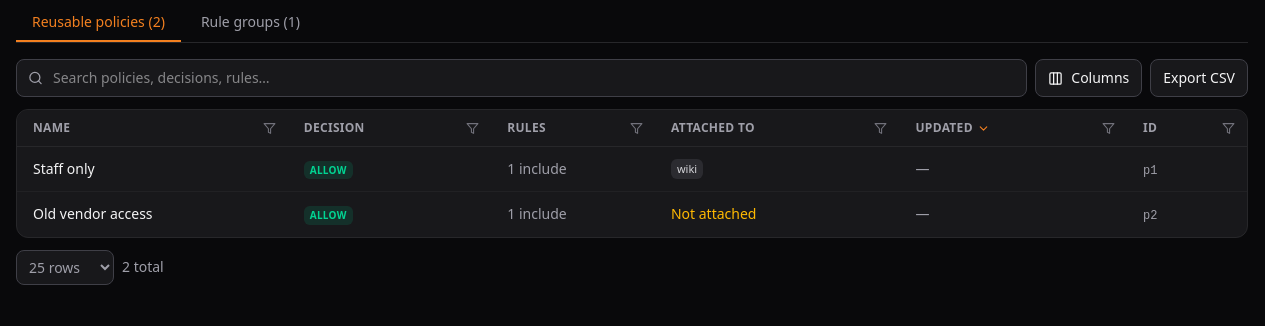
Test case: GroupsPage tabs › hides the created column by default but keeps it selectable
Expected: the button "Created" is not shown
Expected: the button "Updated" is shown, 908,114 -> 1098,142
Step 1. Click the button "Columns" → (1089, 78), box 1035,59 -> 1142,97
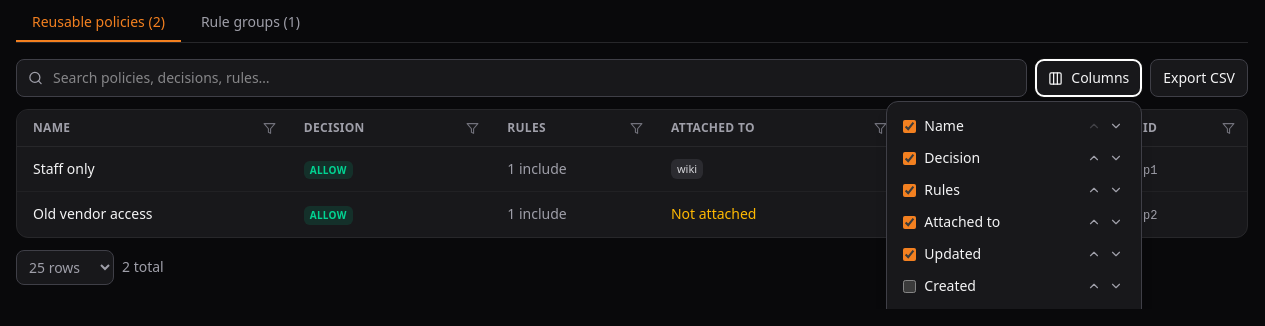
Result: the button named "Move Created up" is shown at 1085,277 -> 1103,295
